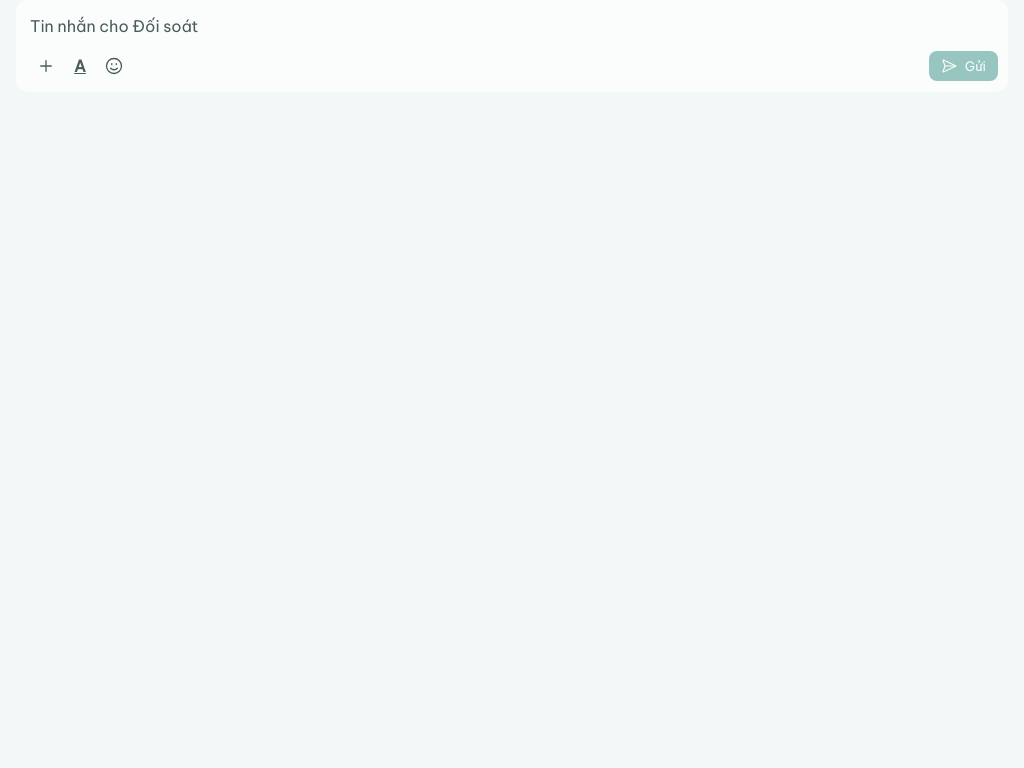
ChatEditor: the "+" sheet on a phone › still offers the cards when the composer cannot attach files
Click the button named "Tạo trong chat" at (46, 66), box 30,50 -> 62,82
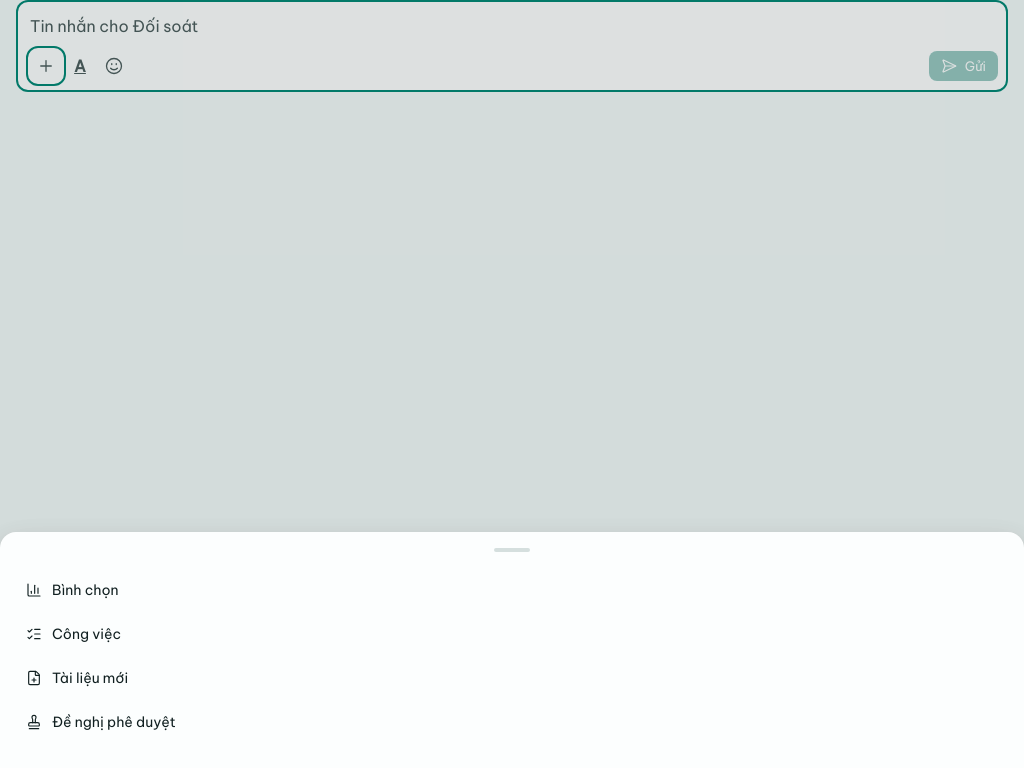
expect the number of menu items is 4: met, box 16,568 -> 1008,612; 16,612 -> 1008,656; 16,656 -> 1008,700; 16,700 -> 1008,744
